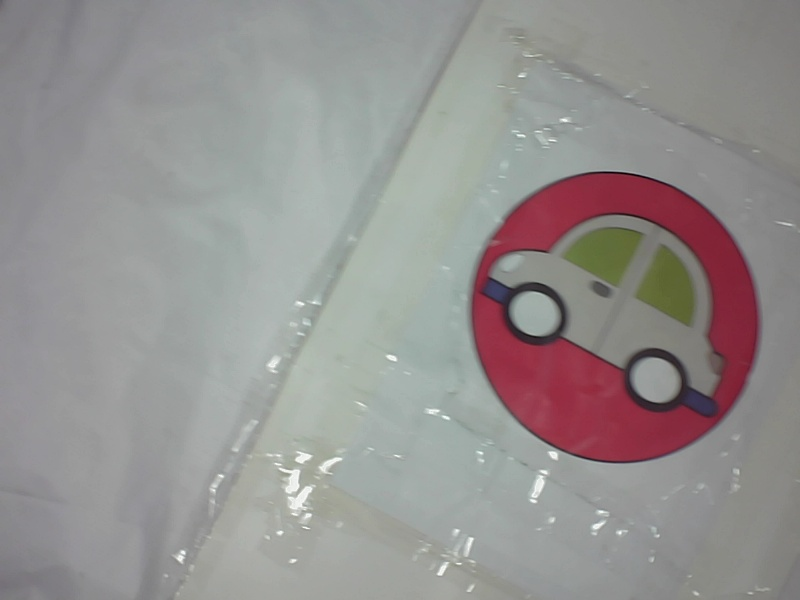areaC: (466, 153, 773, 471)
